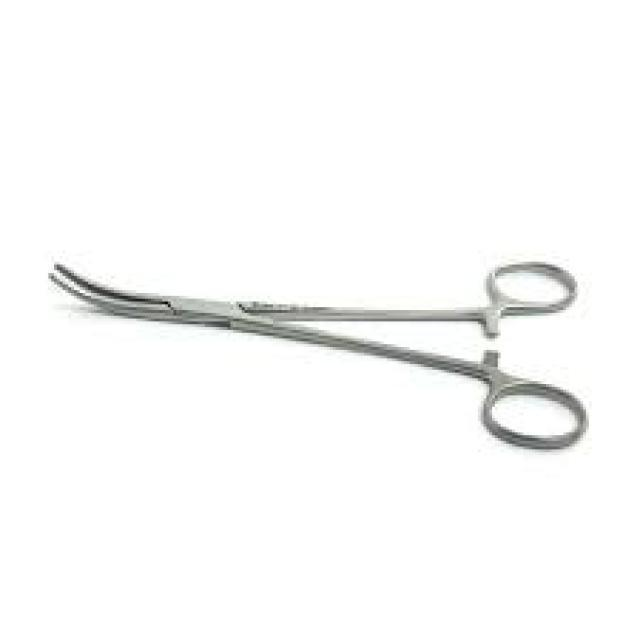Artery Forceps: (48, 228, 594, 454)
